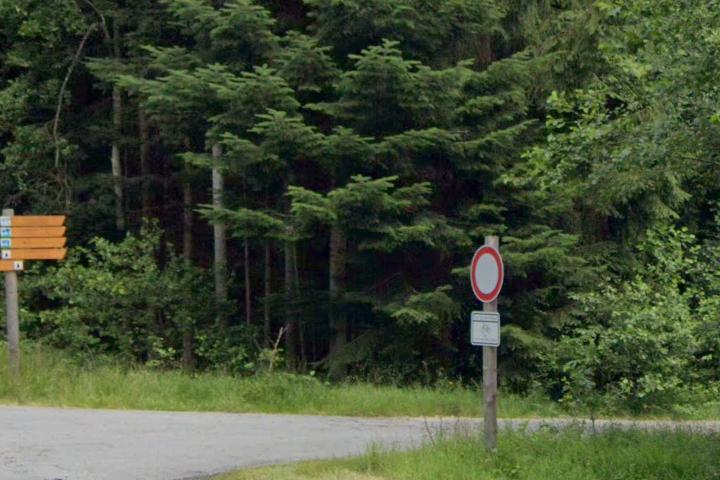traffic_sign: (469, 245, 503, 302)
